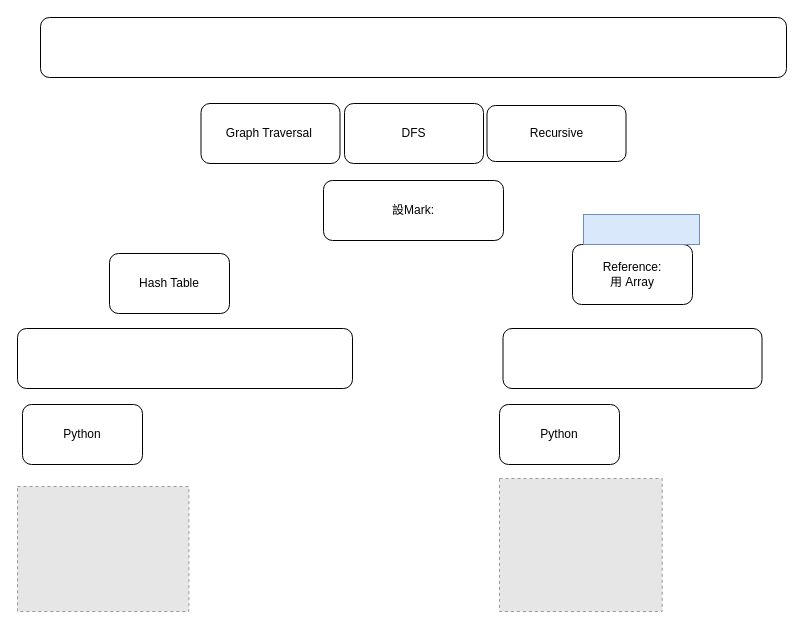
Some shapes in this 804 by 629 pixel diagram are drawn without their labels. Grey dashed boxes stand in for pictures. The shapes that lost their labels are listed below. From the top down, each one's centre as x and y in pixels, then its label:
At (413,47): "題目: 給定一個graph，請複製一樣的graph，回傳。 Input: 會給graph的node Output: node".
At (641,229): "用c比較好寫".
At (184,358): "用Hash table紀錄有走過的node，當有走過，就把那個新創建的node(記載hashtable中)回傳回去".
At (632,358): "用List紀錄有走過的node 之後List的index會對應到新的node的index".
